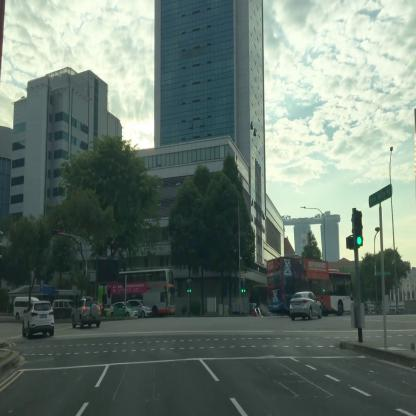green_traffic_light: (354, 209, 363, 247)
